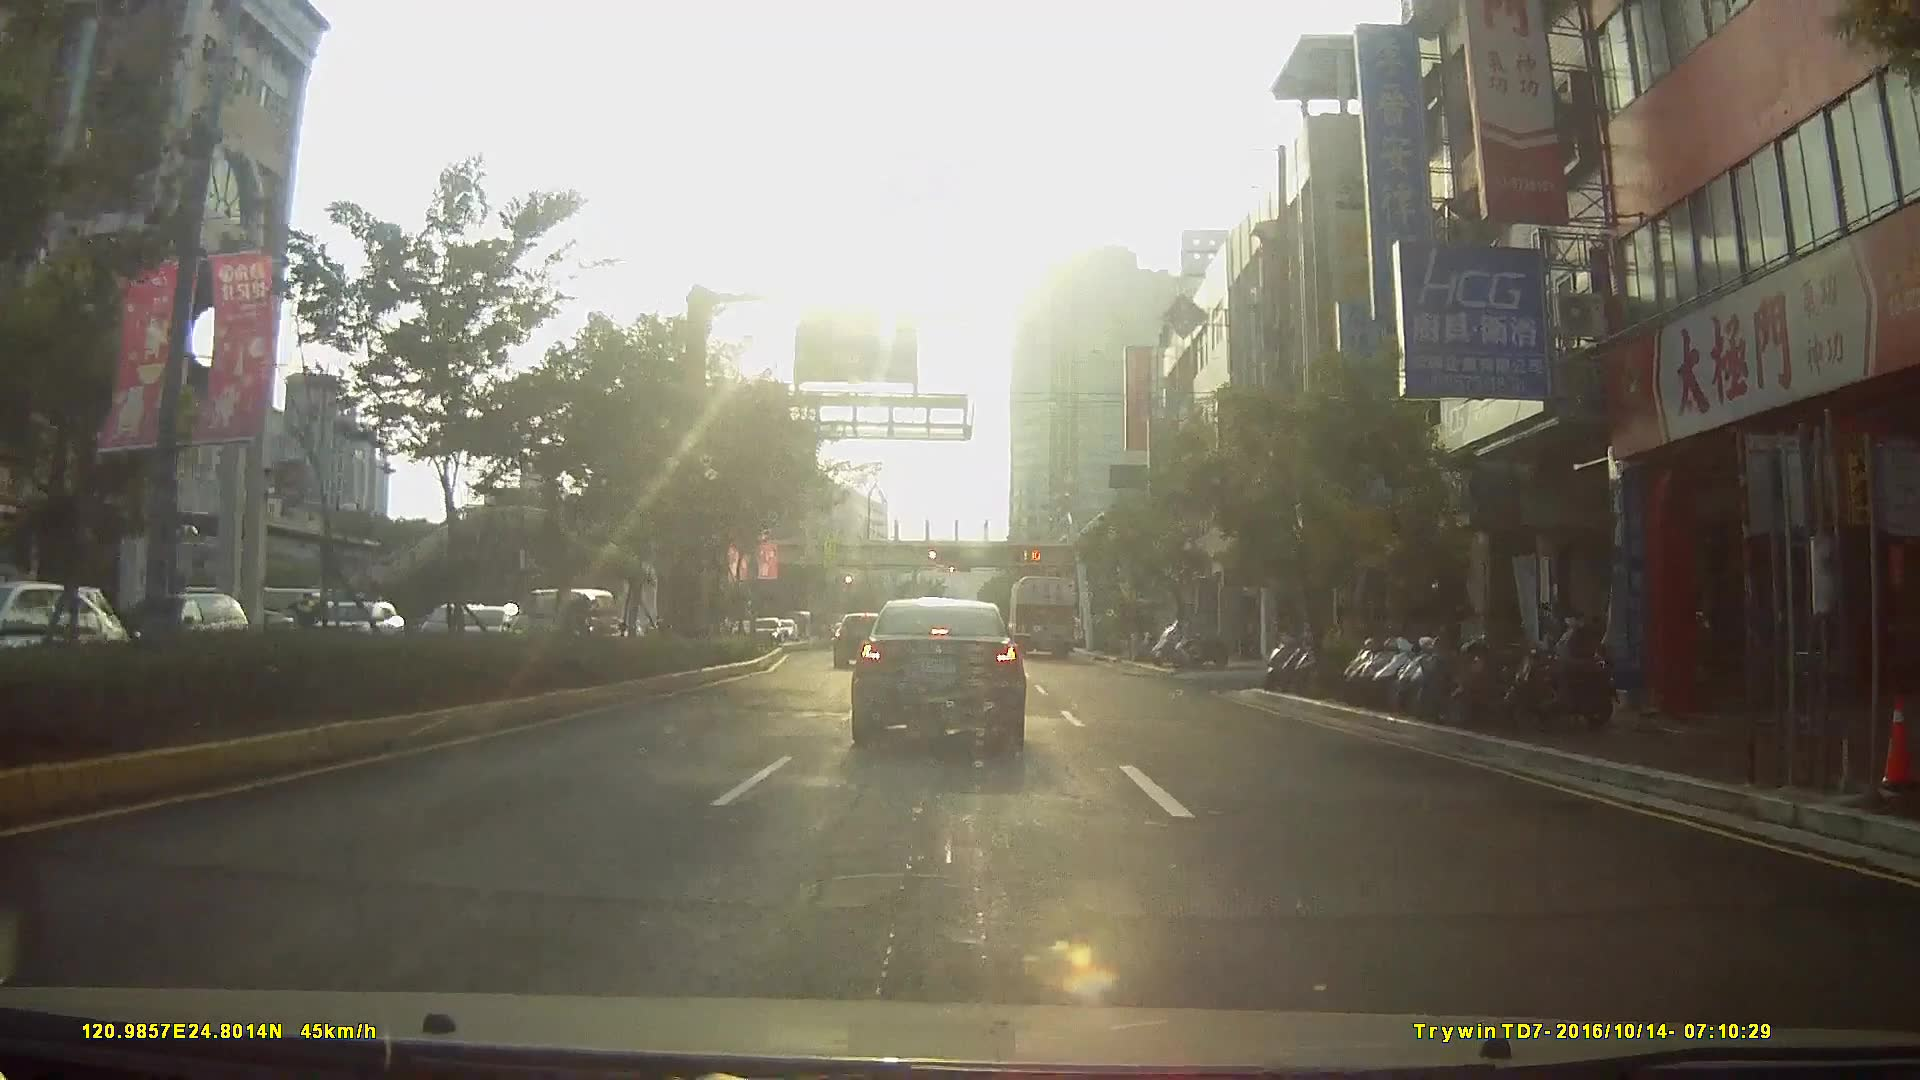vehicle: (849, 587, 1026, 744), (1, 584, 189, 702), (121, 588, 244, 659), (3, 580, 112, 659), (508, 585, 622, 651), (1005, 570, 1080, 657), (829, 608, 889, 665), (744, 615, 782, 645)
